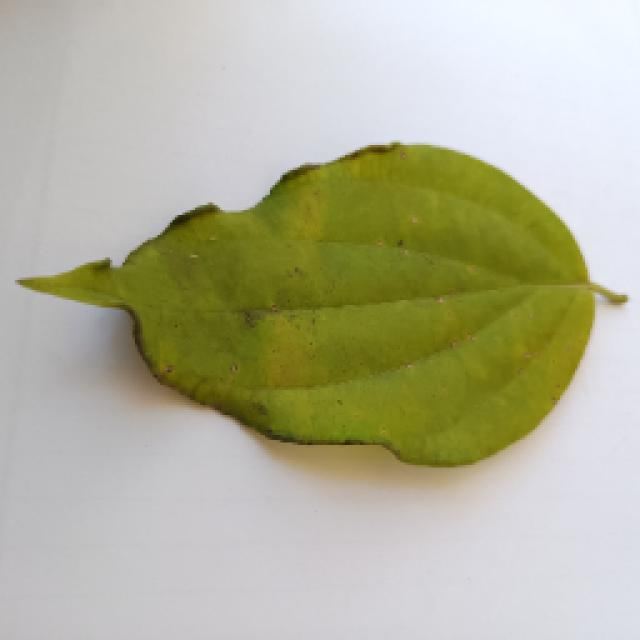slow-decline: (8, 125, 620, 473)
